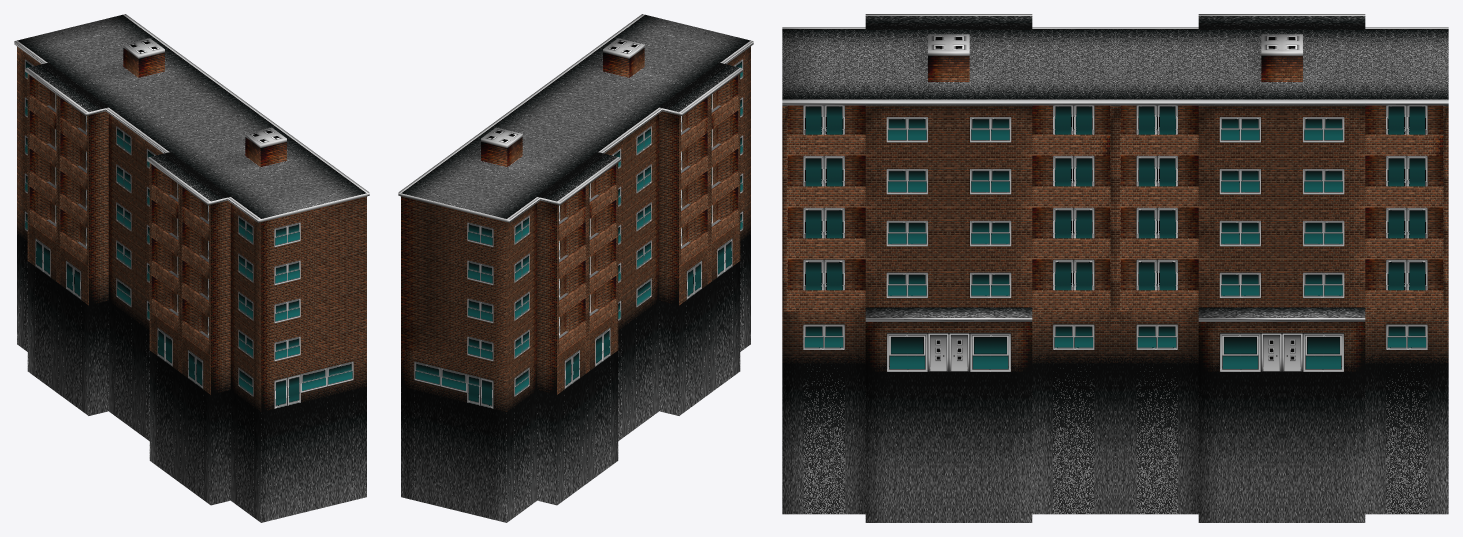
Rendered from apartement_mod1_2a.fbx.
3 renders of one model, left to right at view 1: azimuth 30°, elevation 25°; view 2: azimuth 150°, elevation 25°; view 3: azimuth 270°, elevation 25°, orthographic. The views are drawn at different scales.
Parts seen in each view (by area): view 1: apartement_mod1_2a; view 2: apartement_mod1_2a; view 3: apartement_mod1_2a.
Boxes of the visible parts, x1,y1,x2,y2 form: apartement_mod1_2a: [14, 14, 369, 522]; apartement_mod1_2a: [398, 14, 753, 522]; apartement_mod1_2a: [782, 14, 1448, 522].
Bounding box in the file's own units: 1231 × 2652 × 3600.
